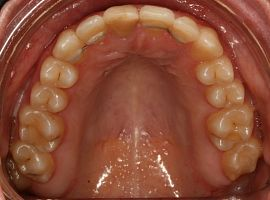UL1BC_decay: (196, 56, 232, 87)
UL1M_healthy: (207, 109, 253, 153)
UL2BC_decay: (205, 83, 242, 112)
UL2M_healthy: (222, 138, 259, 181)
ULCI_healthy: (140, 6, 174, 34)
ULC_healthy: (191, 28, 223, 59)
ULLI_healthy: (169, 19, 199, 45)
UR1BC_decay: (40, 60, 86, 86)
UR1M_healthy: (18, 105, 66, 152)
UR2BC_healthy: (26, 71, 67, 112)
UR2M_decay: (9, 144, 56, 191)
URCI_healthy: (106, 5, 140, 37)
URC_healthy: (56, 32, 84, 64)
URLI_healthy: (78, 15, 107, 49)
